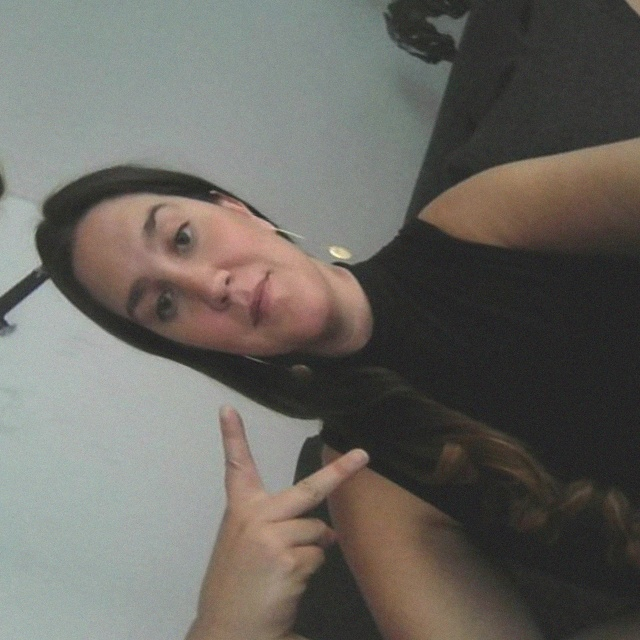Scissors: (146, 388, 403, 640)
